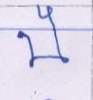ai_matra: (37, 6, 60, 28)
